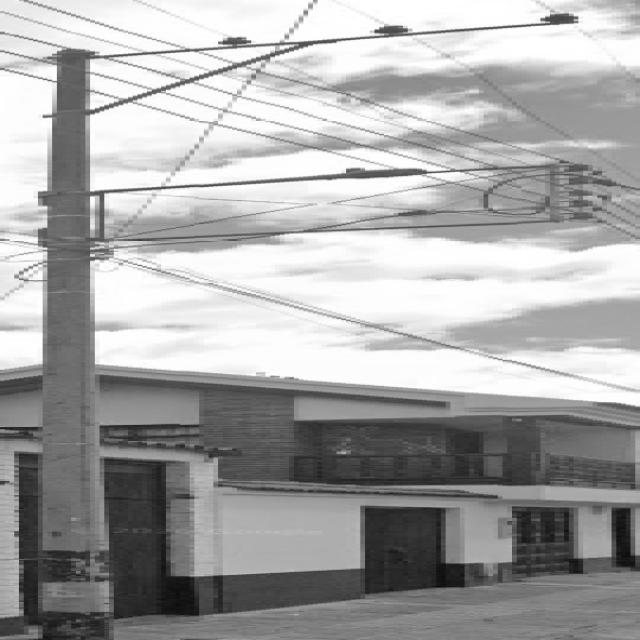Fachada: (100, 366, 635, 616), (0, 366, 38, 631)
Poste: (38, 14, 626, 639)
